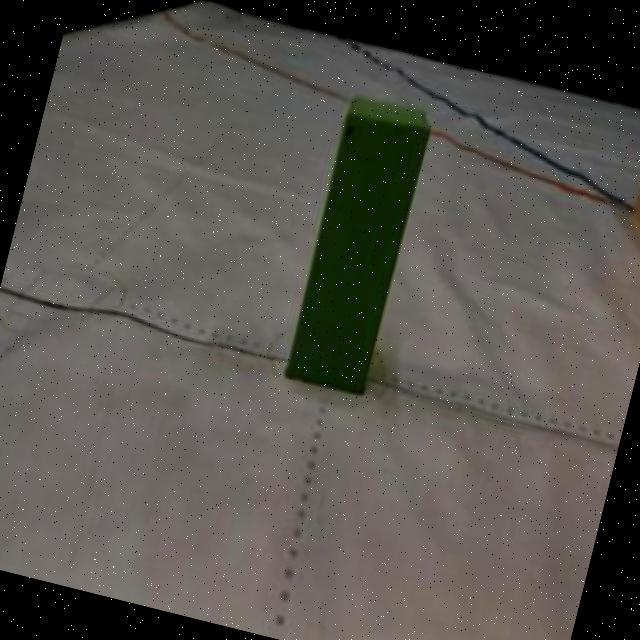greenbox: (282, 92, 431, 399)
